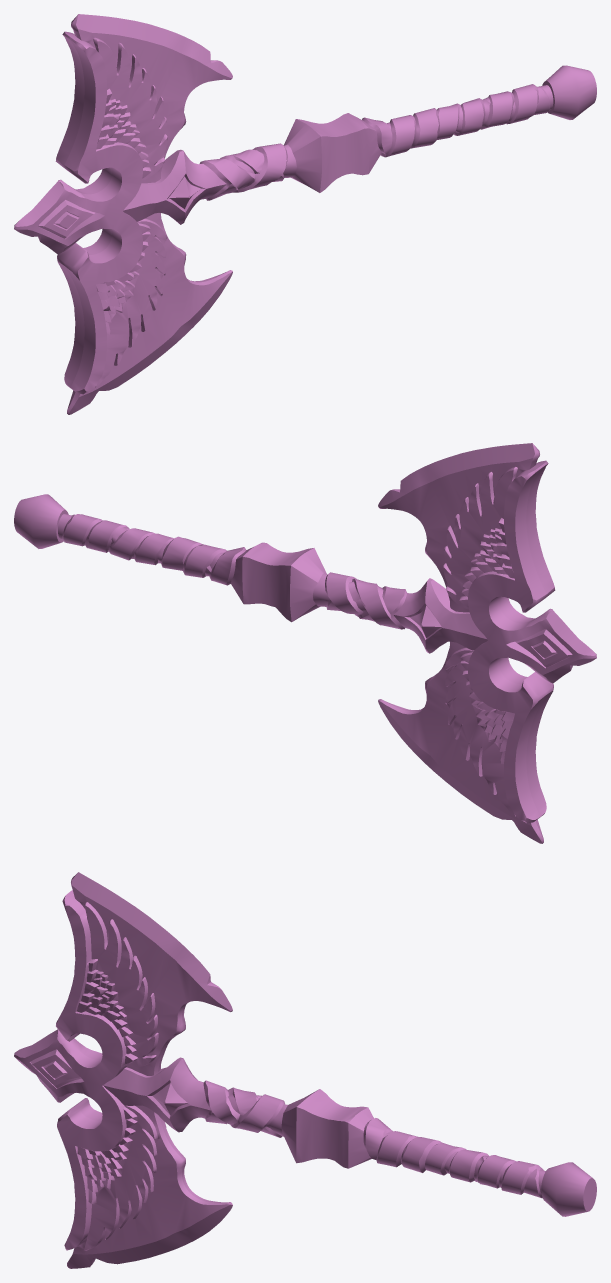
Rendered from SM_Rune_Two_Handed_Poleaxe_4.fbx.
3 views of the same model, one above another, from view 1: azimuth 30°, elevation 25°; view 2: azimuth 150°, elevation 25°; view 3: azimuth 330°, elevation 25° (orthographic).
Visible parts, largest first — view 1: SM_Rune_Two_Handed_Poleaxe_4; view 2: SM_Rune_Two_Handed_Poleaxe_4; view 3: SM_Rune_Two_Handed_Poleaxe_4.
Part boxes in pixels (x1,y1,x2,y2): SM_Rune_Two_Handed_Poleaxe_4: [14, 14, 596, 414]; SM_Rune_Two_Handed_Poleaxe_4: [14, 443, 596, 843]; SM_Rune_Two_Handed_Poleaxe_4: [14, 872, 596, 1268].
Bounding box in the file's own units: 0.7997 × 0.5289 × 0.0616.
